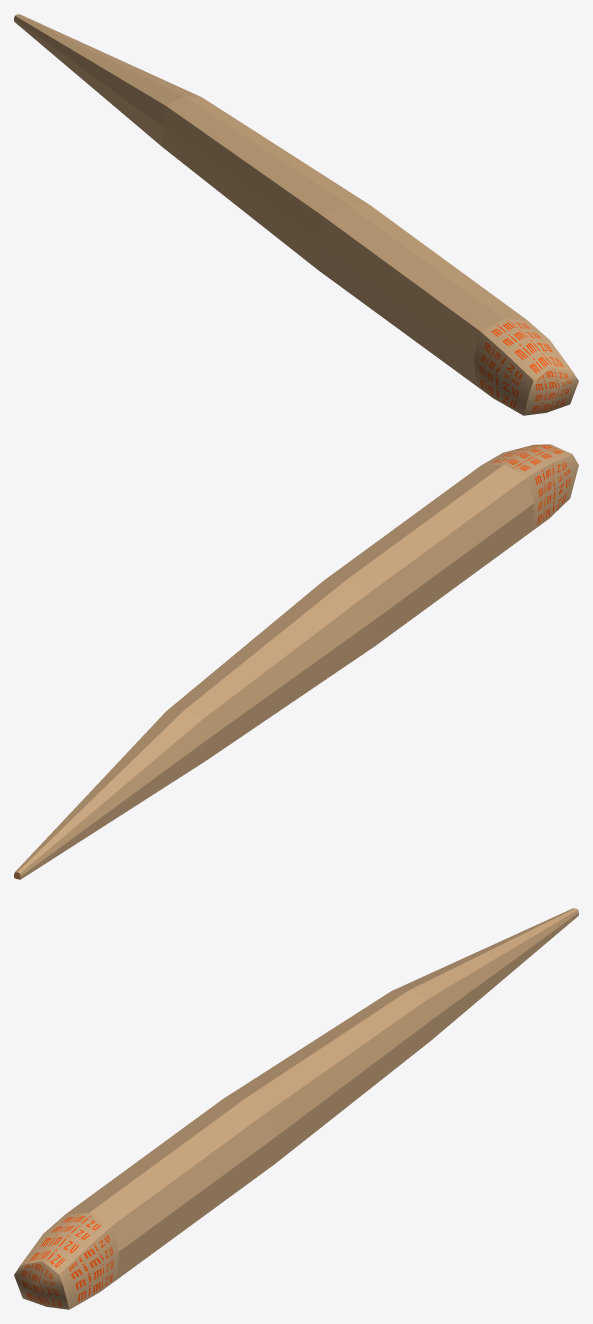
Rendered from kariesa.FBX.
3 renders of one model, top to bottom at view 1: azimuth 30°, elevation 25°; view 2: azimuth 150°, elevation 25°; view 3: azimuth 330°, elevation 25°, orthographic.
Parts seen in each view (by area): view 1: Box001; view 2: Box001; view 3: Box001.
Part boxes in pixels (x1,y1,x2,y2): Box001: (14,14,578,415); Box001: (14,444,578,879); Box001: (14,908,578,1309).
Bounding box in the file's own units: 1.04 × 16.22 × 1.04.
1 material, 1 textured.
